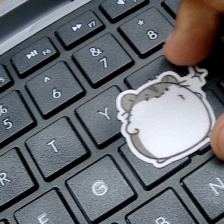mouse: (113, 55, 217, 174)
